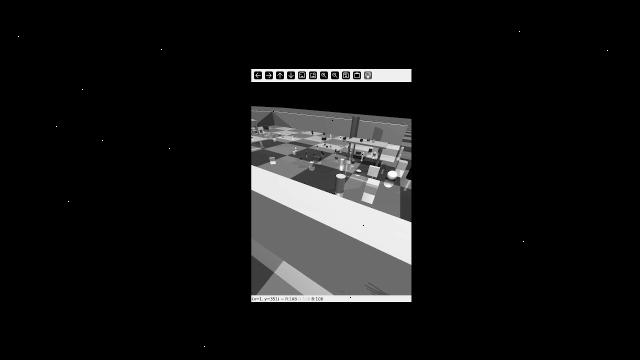cilindro: (333, 174, 346, 194), (350, 116, 358, 138), (398, 145, 406, 155), (407, 165, 412, 181), (340, 157, 344, 165), (379, 147, 383, 154), (339, 148, 343, 153), (373, 139, 377, 144), (362, 152, 366, 157), (305, 150, 309, 154), (343, 136, 347, 139), (291, 135, 295, 138), (334, 149, 338, 152), (383, 163, 386, 167), (260, 128, 262, 133), (273, 134, 275, 138), (320, 141, 322, 144), (321, 150, 323, 153), (292, 133, 294, 135), (324, 143, 326, 145)
cuadrado: (365, 177, 380, 195), (396, 160, 407, 171), (308, 161, 314, 166), (263, 125, 269, 130), (346, 153, 351, 157), (368, 148, 372, 152), (358, 139, 363, 142), (325, 145, 329, 148), (268, 133, 272, 136), (302, 130, 307, 132), (292, 151, 297, 153), (323, 132, 326, 135), (346, 147, 349, 150), (329, 134, 333, 136), (322, 153, 325, 155), (323, 135, 326, 137), (311, 131, 314, 132)
esfera: (386, 171, 397, 180), (356, 168, 362, 173), (351, 159, 355, 164), (373, 152, 377, 156), (335, 157, 340, 160), (299, 156, 303, 159), (312, 152, 315, 156), (367, 139, 371, 142), (315, 145, 319, 148), (278, 133, 281, 135), (282, 136, 285, 138), (311, 133, 314, 135), (339, 136, 342, 138), (350, 149, 353, 151), (329, 145, 332, 147), (295, 147, 297, 150), (340, 145, 342, 147)
rectangulo: (367, 165, 380, 173), (265, 134, 272, 138), (313, 156, 320, 160), (269, 157, 276, 161), (252, 130, 258, 134), (356, 151, 361, 155), (322, 137, 326, 140)
